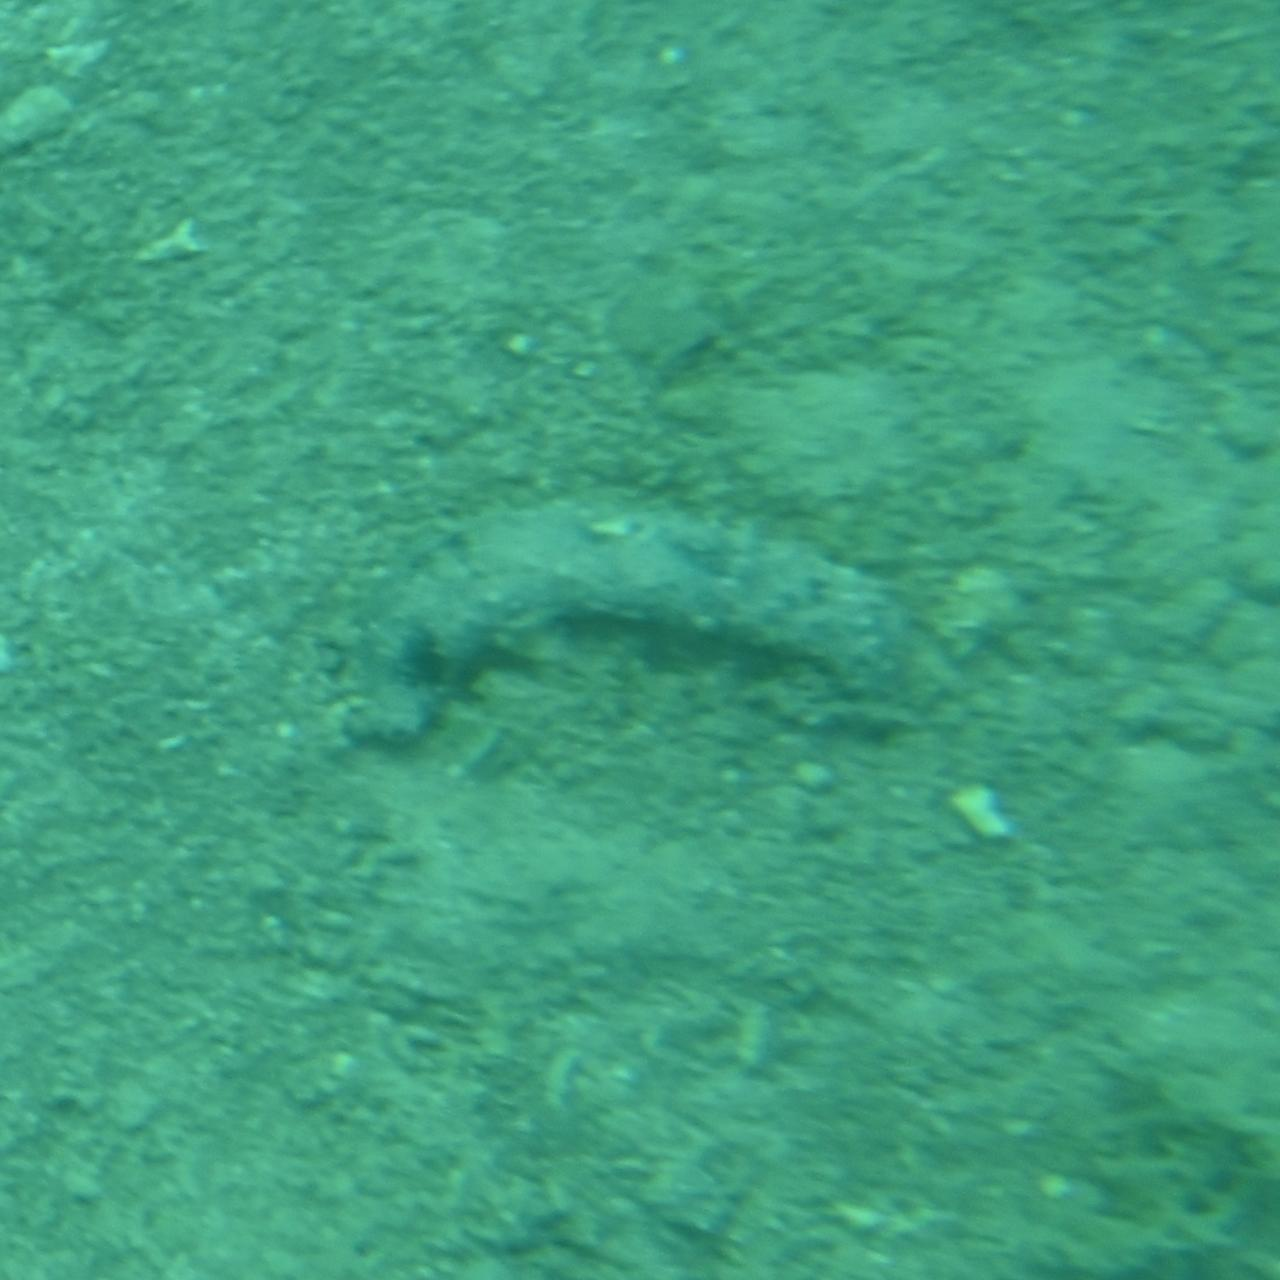Holothuria tubulosa: (338, 496, 942, 784)
